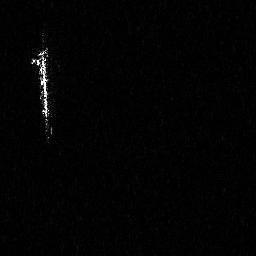ship: (30, 45, 54, 145)
